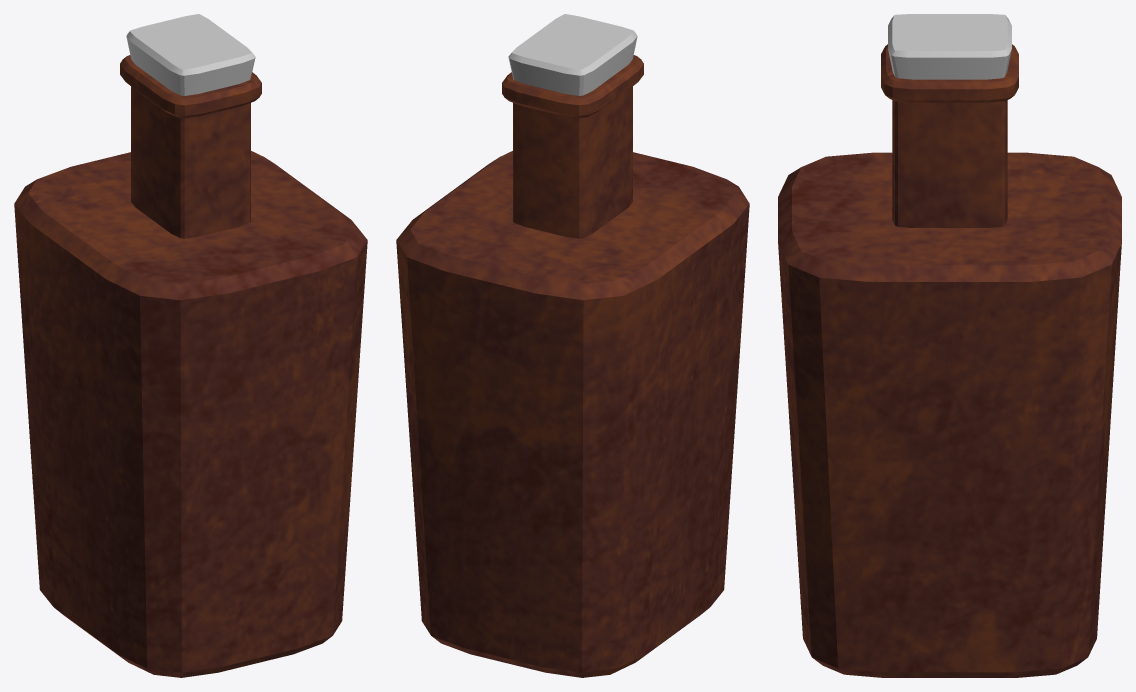
Rendered from Bottle4_Magnant_Grace.FBX.
3 renders of one model, left to right at view 1: azimuth 30°, elevation 25°; view 2: azimuth 150°, elevation 25°; view 3: azimuth 270°, elevation 25°, orthographic. The views are drawn at different scales.
Visible parts, largest first — view 1: Test; view 2: Test; view 3: Test.
Boxes of the visible parts, <box> form: Test: <box>14,14,367,677</box>; Test: <box>396,14,749,677</box>; Test: <box>778,14,1121,677</box>.
Bounding box in the file's own units: 14.04 × 31.44 × 16.4.
